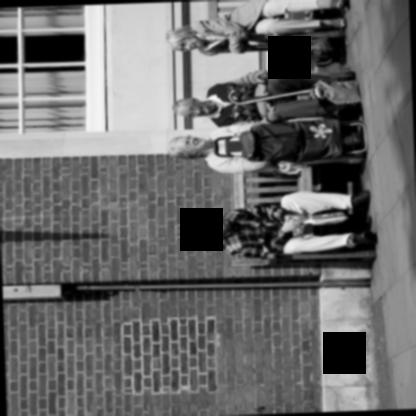backpack: (310, 34, 348, 67), (280, 36, 330, 59)
handbag: (305, 78, 360, 105), (303, 210, 348, 224), (312, 62, 343, 71)
suitcase: (210, 120, 364, 161)
